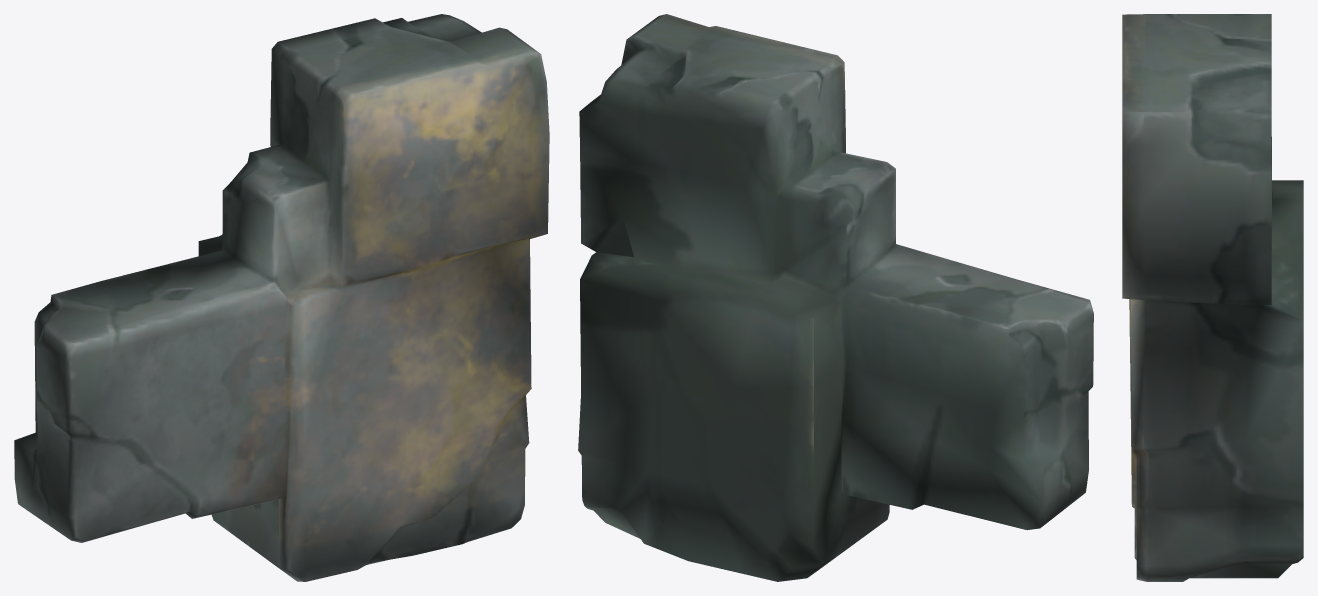
The model's file is Floor_Block_A.fbx.
The picture shows the model from 3 angles, left to right: view 1: azimuth 30°, elevation 25°; view 2: azimuth 150°, elevation 25°; view 3: azimuth 270°, elevation 25°; orthographic projection. The views are drawn at different scales.
Parts seen in each view (by area): view 1: Floor_Block_A; view 2: Floor_Block_A; view 3: Floor_Block_A.
Part boxes in pixels (<box>): Floor_Block_A: <box>14,14,549,581</box>; Floor_Block_A: <box>578,14,1093,581</box>; Floor_Block_A: <box>1122,14,1303,581</box>.
Size of the model in its own units: 1240 by 1202 by 404.
Materials: 1 (1 with a texture image).
